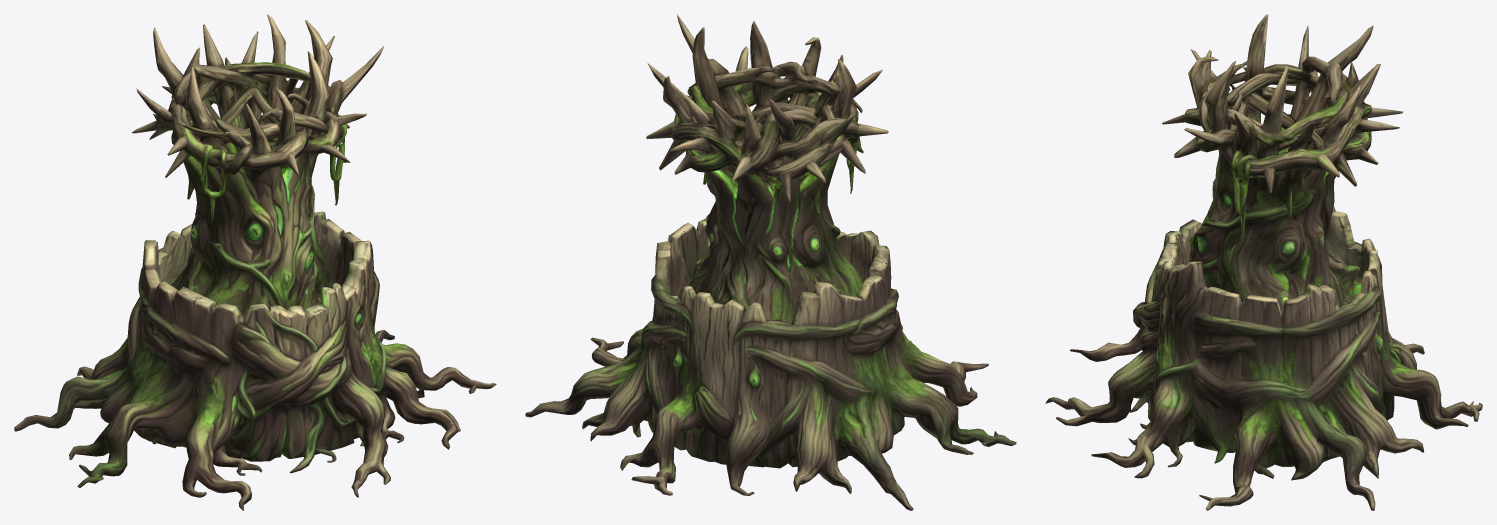
Rendered from sapling_meshy_v01_prepared.fbx.
3 renders of one model, left to right at view 1: azimuth 30°, elevation 25°; view 2: azimuth 150°, elevation 25°; view 3: azimuth 270°, elevation 25°, orthographic. The views are drawn at different scales.
Parts seen in each view (by area): view 1: Mesh1.0; view 2: Mesh1.0; view 3: Mesh1.0.
Part boxes in pixels (x1,y1,x2,y2): Mesh1.0: [14, 14, 496, 510]; Mesh1.0: [525, 14, 1016, 510]; Mesh1.0: [1045, 14, 1482, 510].
Size of the model in its own units: 143 by 125 by 130.
